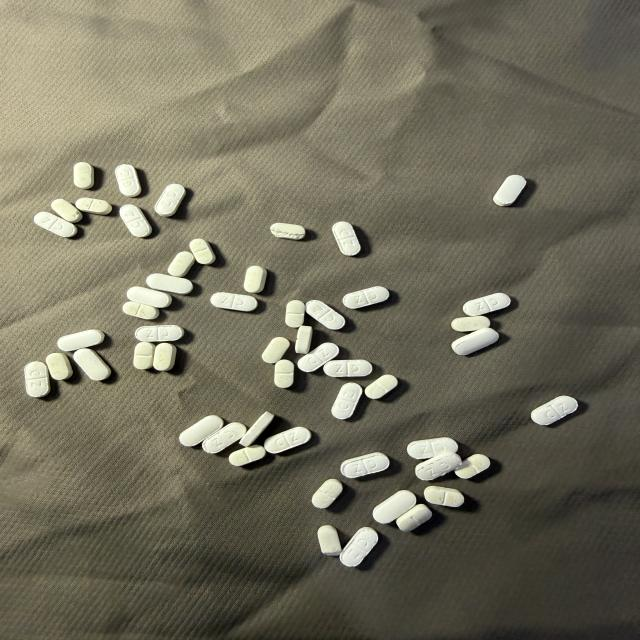pill: (340, 527, 378, 566), (373, 490, 416, 523), (531, 396, 577, 425), (179, 416, 223, 446), (203, 423, 246, 453), (452, 328, 499, 355), (416, 452, 461, 480), (264, 427, 311, 453), (341, 453, 389, 478), (298, 343, 339, 372), (74, 348, 111, 380), (240, 412, 274, 446), (306, 300, 345, 329), (463, 293, 510, 316), (332, 383, 362, 419), (34, 212, 77, 237), (120, 204, 152, 237), (407, 438, 457, 459), (493, 175, 526, 206), (396, 504, 432, 531), (343, 287, 389, 308), (58, 330, 104, 351), (155, 184, 185, 216), (127, 287, 172, 308), (146, 274, 193, 294), (333, 222, 360, 256), (24, 362, 50, 397), (312, 479, 343, 508), (455, 454, 490, 478), (424, 486, 464, 507), (135, 325, 184, 342), (211, 293, 257, 311), (324, 360, 372, 377), (115, 165, 141, 196), (365, 375, 398, 399), (229, 445, 266, 466), (45, 353, 73, 380), (318, 525, 341, 556), (262, 337, 289, 363), (52, 199, 82, 222), (190, 238, 216, 264), (168, 252, 195, 277), (123, 301, 159, 319), (154, 343, 176, 371), (452, 316, 490, 332), (244, 266, 266, 293), (75, 198, 111, 214), (134, 342, 155, 369), (274, 360, 294, 388), (271, 223, 305, 239), (74, 162, 94, 189), (286, 300, 305, 327), (295, 325, 312, 354)
